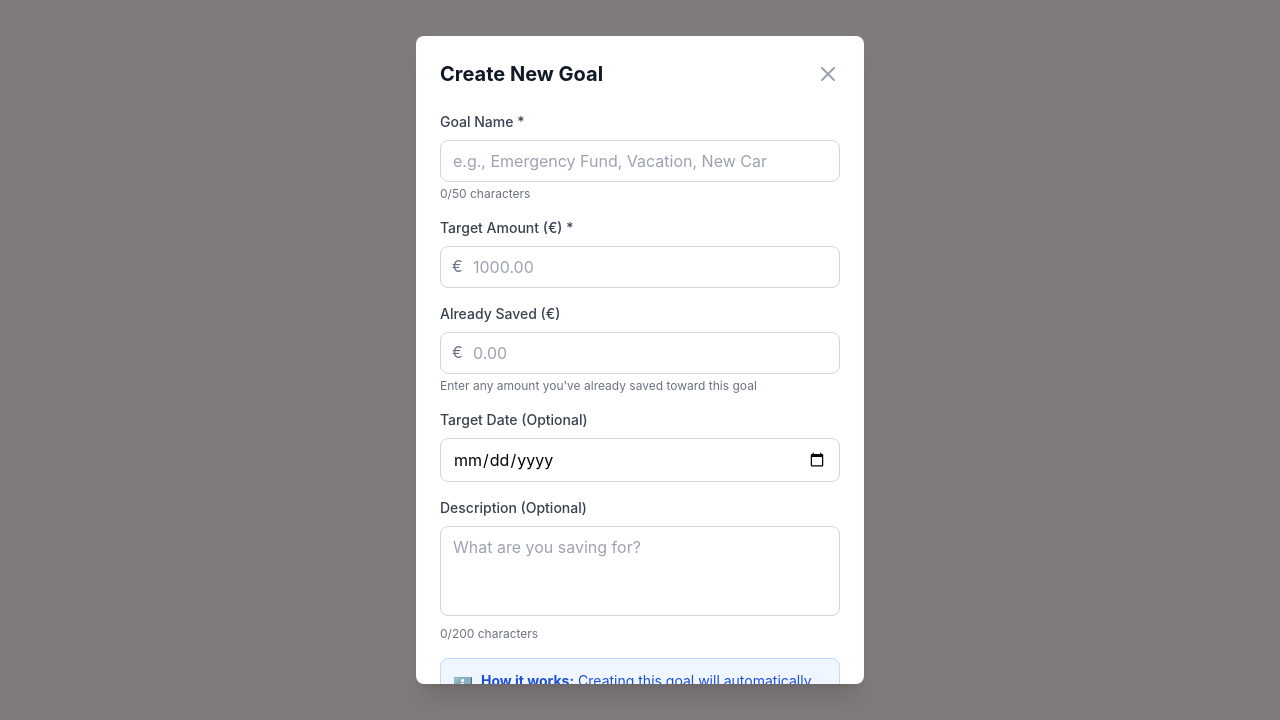
Test case: CreateGoalModal › Input Validation › shows error when target amount is 0
The image size is (1280, 720).
Type "My Goal" into the field with placeholder "e.g., Emergency Fund, Vacation, New Car".
click(640, 161); type("My Goal")  # box [440,140,840,182]
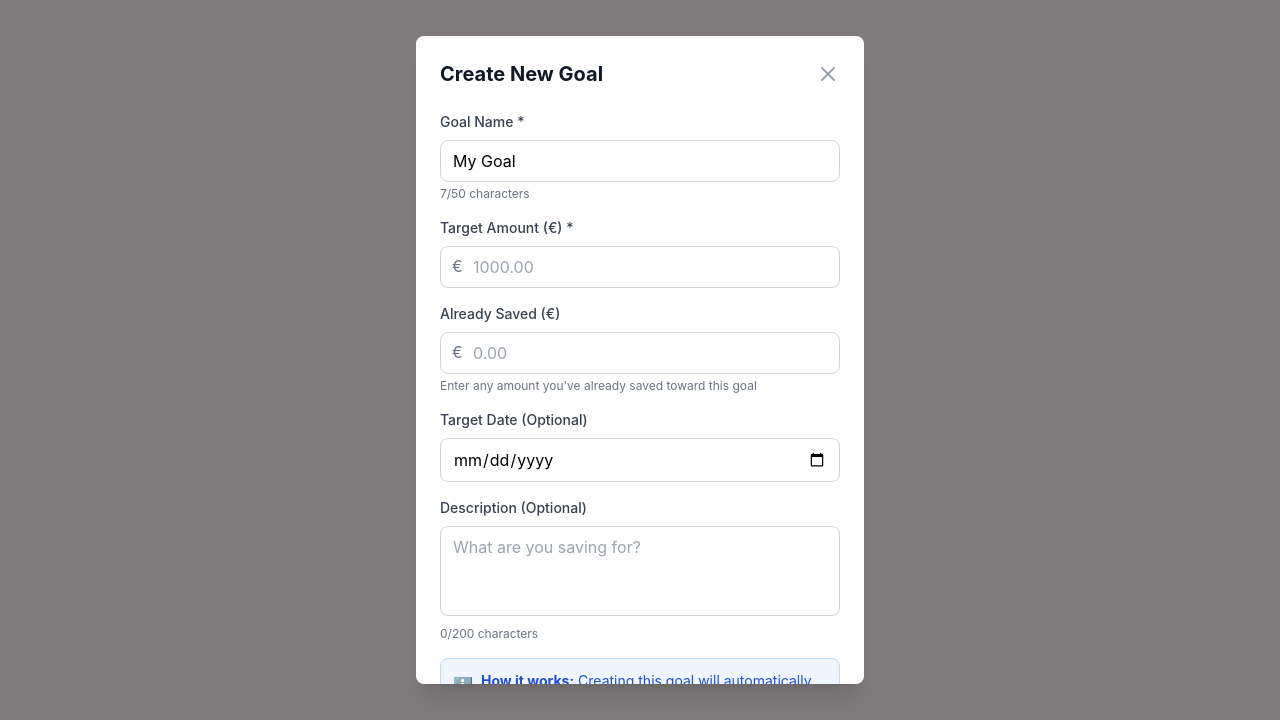
Type "0" into the field with placeholder "1000.00".
click(640, 267); type("0")  # box [440,246,840,288]
(page scrolled)
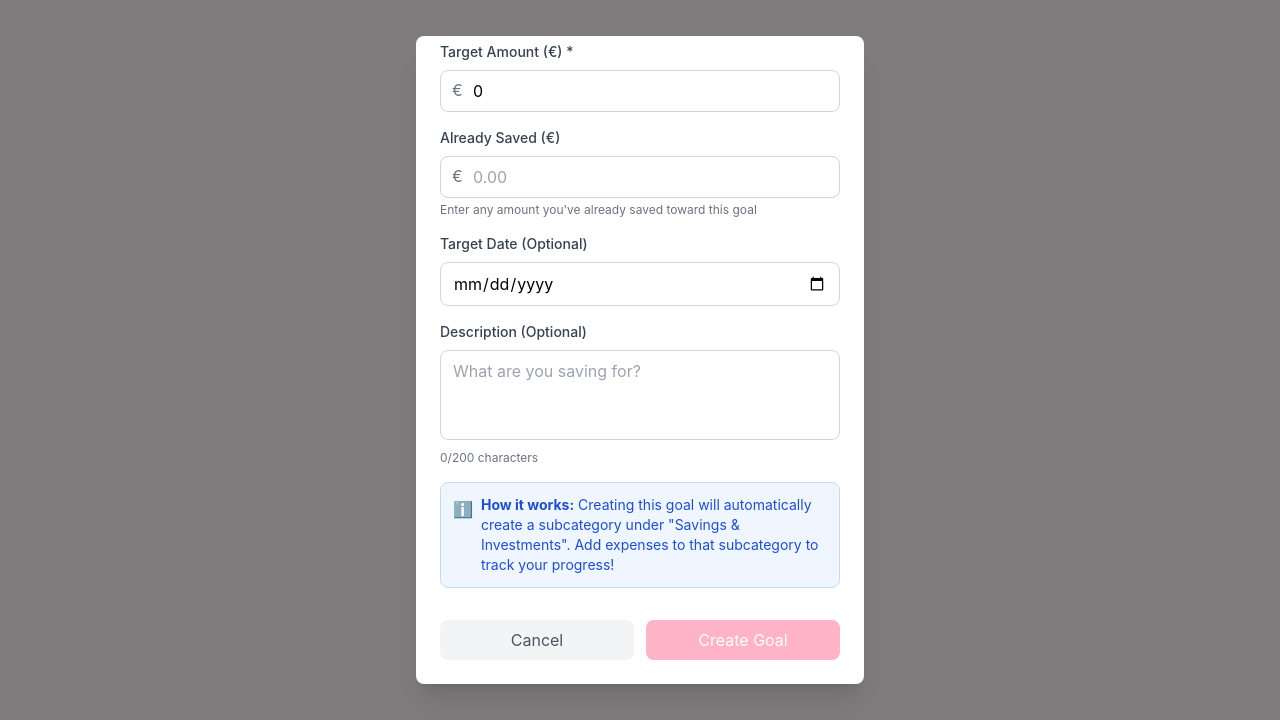
Click the button "Create Goal".
click(743, 640)  # box [646,620,840,660]
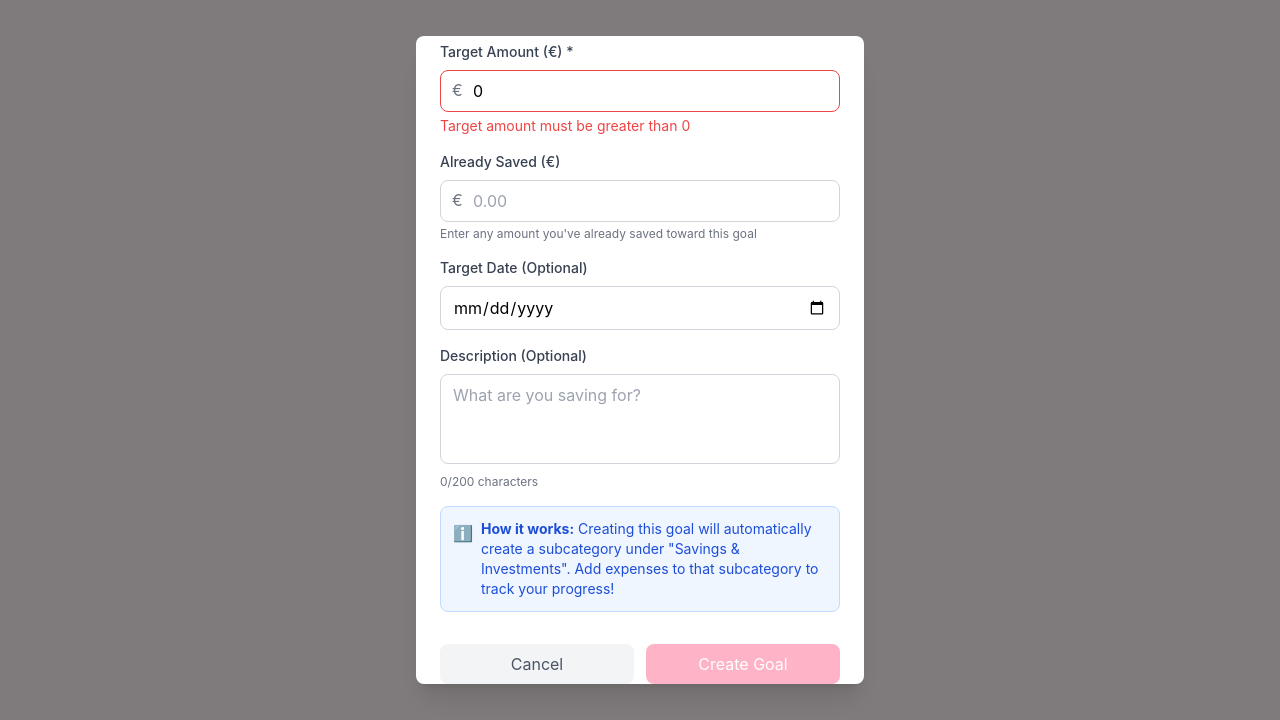
Expected: the text "Target amount must be greater than 0" is shown, [440,117,690,134]
